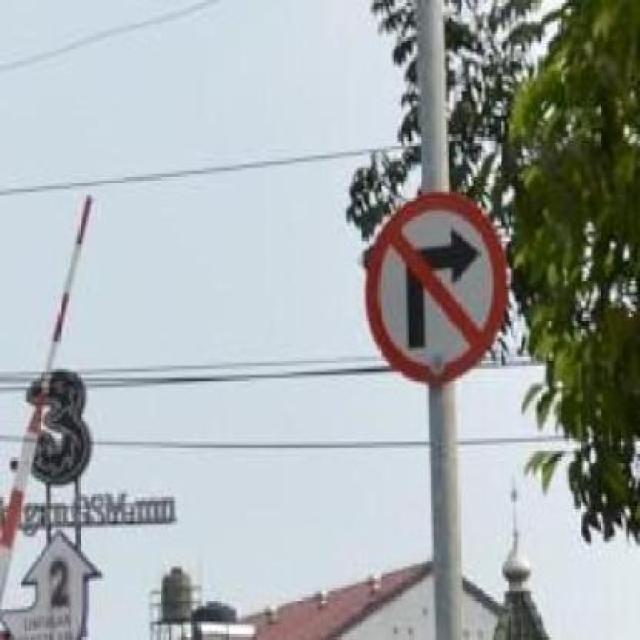right turn prohibited: (358, 194, 507, 386)
